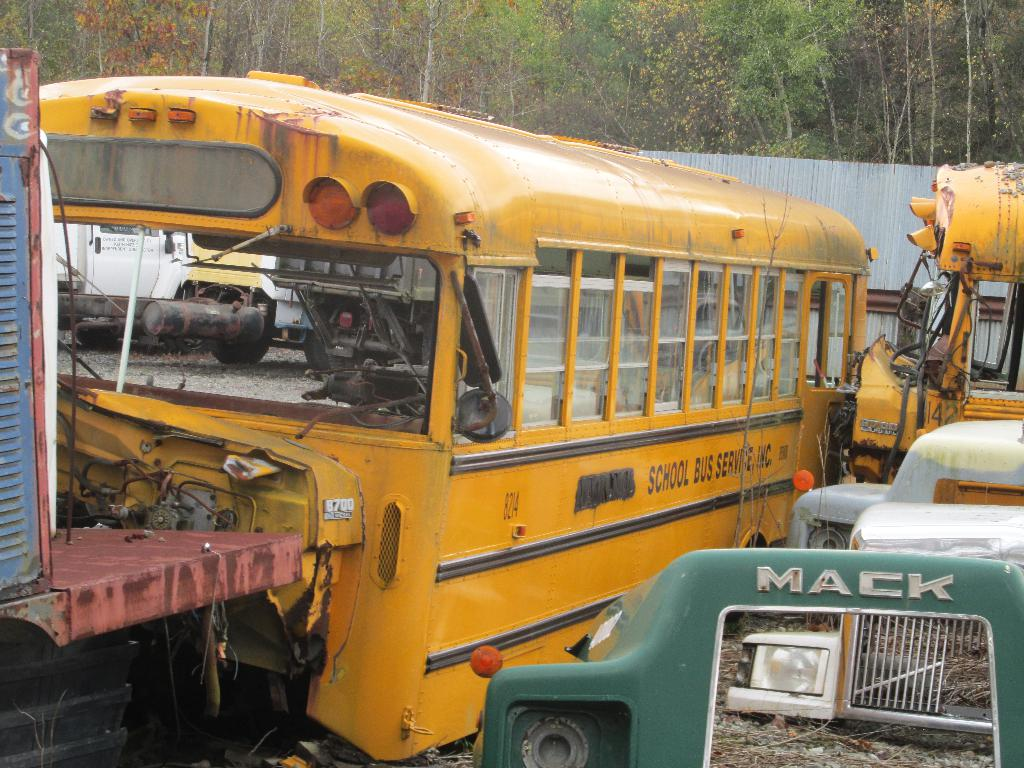Bus: (27, 67, 884, 756), (837, 158, 1023, 509)
